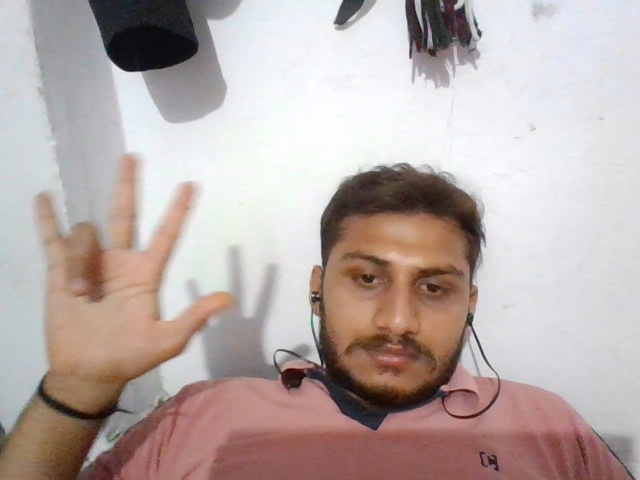ILoveYou: (31, 146, 243, 380)
